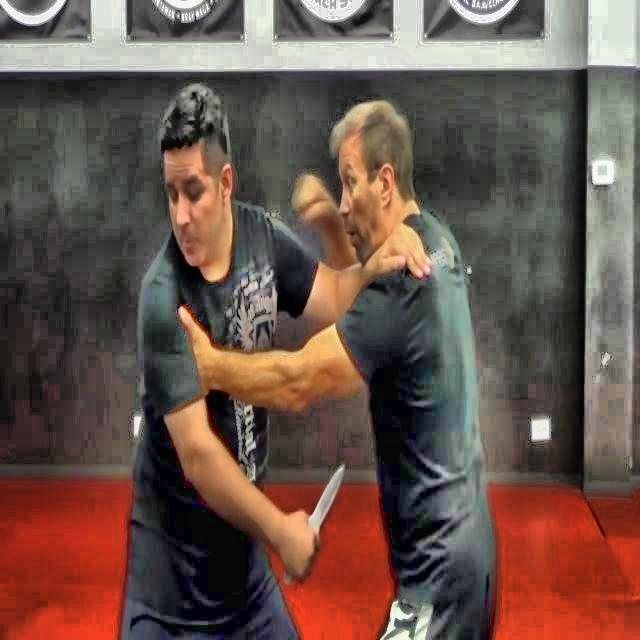knife: (282, 465, 344, 584)
